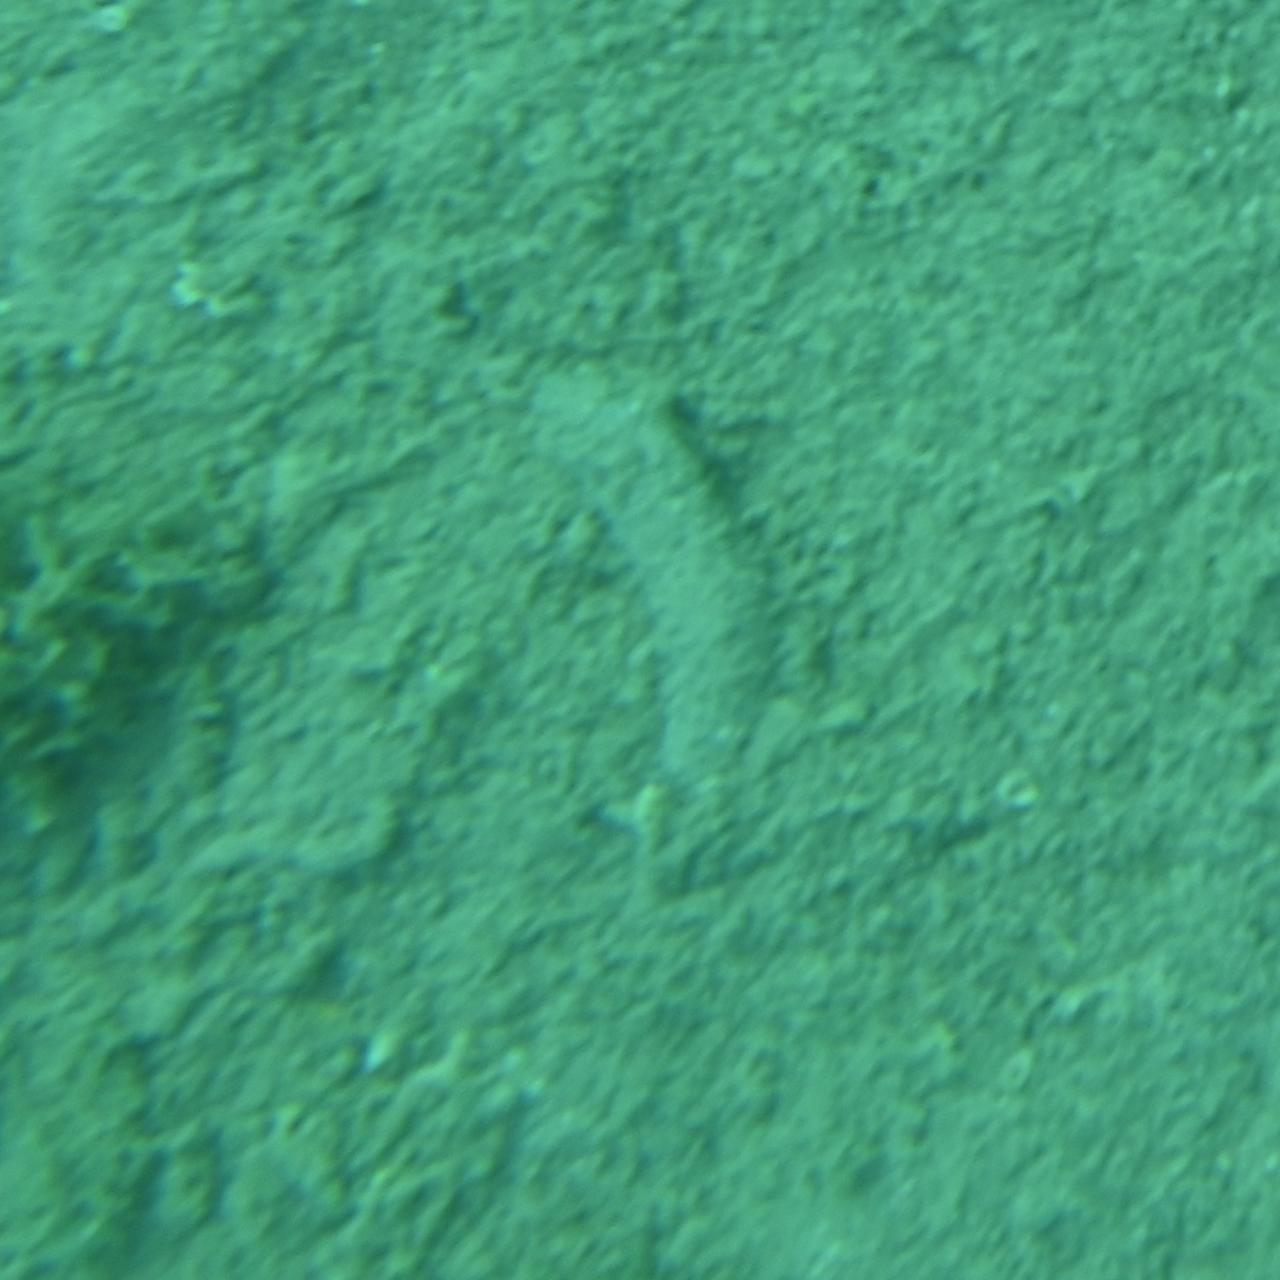Holothuria tubulosa: (518, 322, 762, 958)
